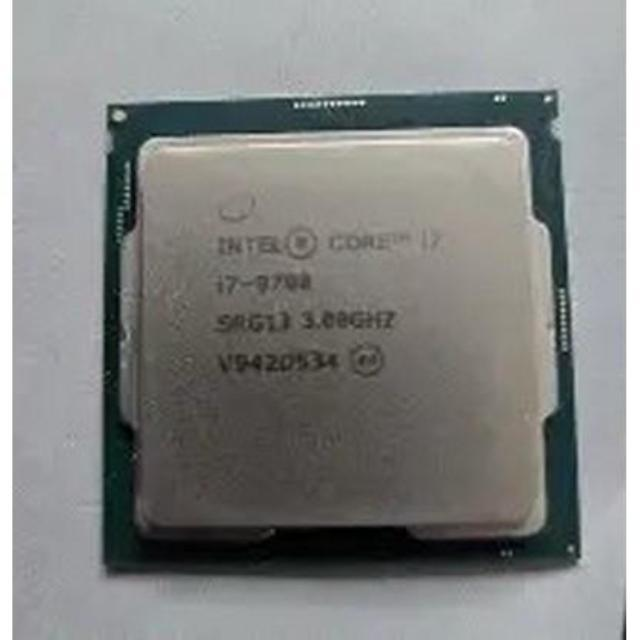CPU: (110, 110, 573, 562)
